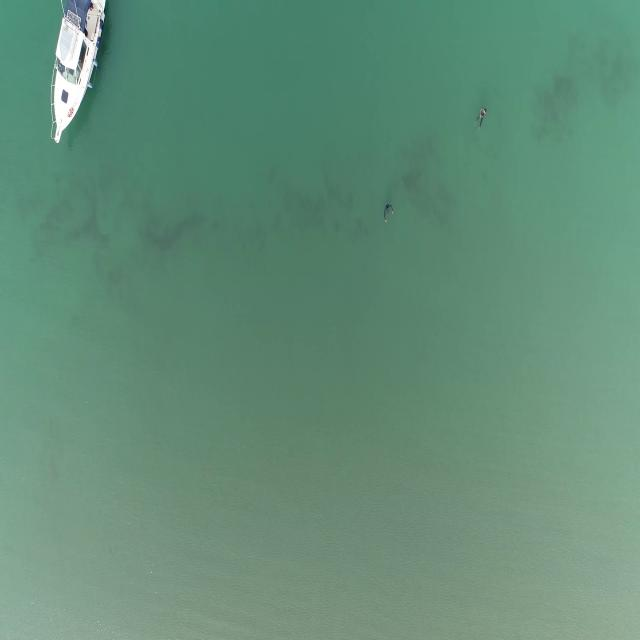boat: (45, 1, 105, 147)
person: (476, 109, 487, 138), (381, 205, 394, 227)
